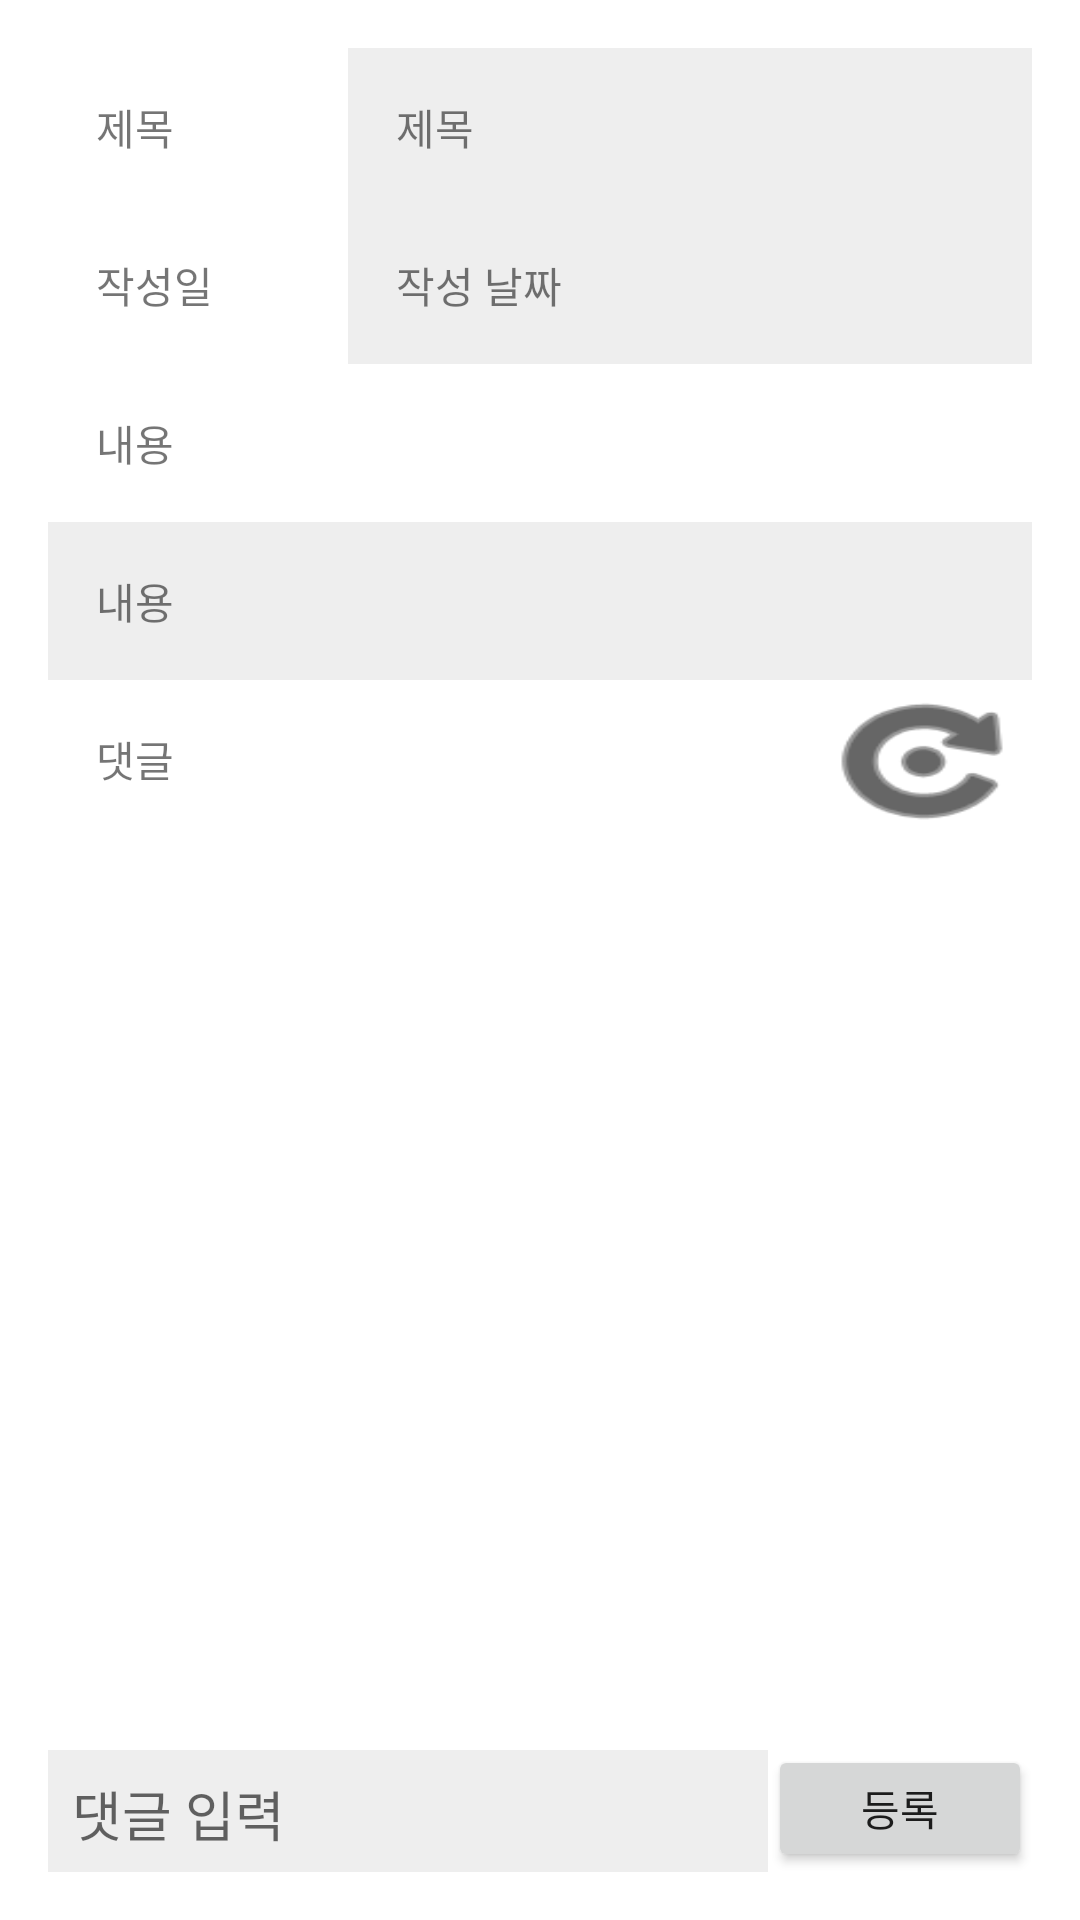

Screen size 1080 × 1920. Icon name, then its box in pixels as [x1=x1, y1=y1, x2=x2, y2=y2]:
rotate: [x1=841, y1=704, x2=1003, y2=819]
